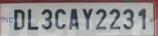character: (107, 8, 121, 30), (12, 8, 25, 31), (81, 7, 94, 30), (54, 8, 67, 30), (94, 8, 107, 30), (122, 8, 135, 30), (26, 8, 38, 30), (68, 7, 79, 30), (41, 8, 52, 30), (138, 7, 147, 30)
